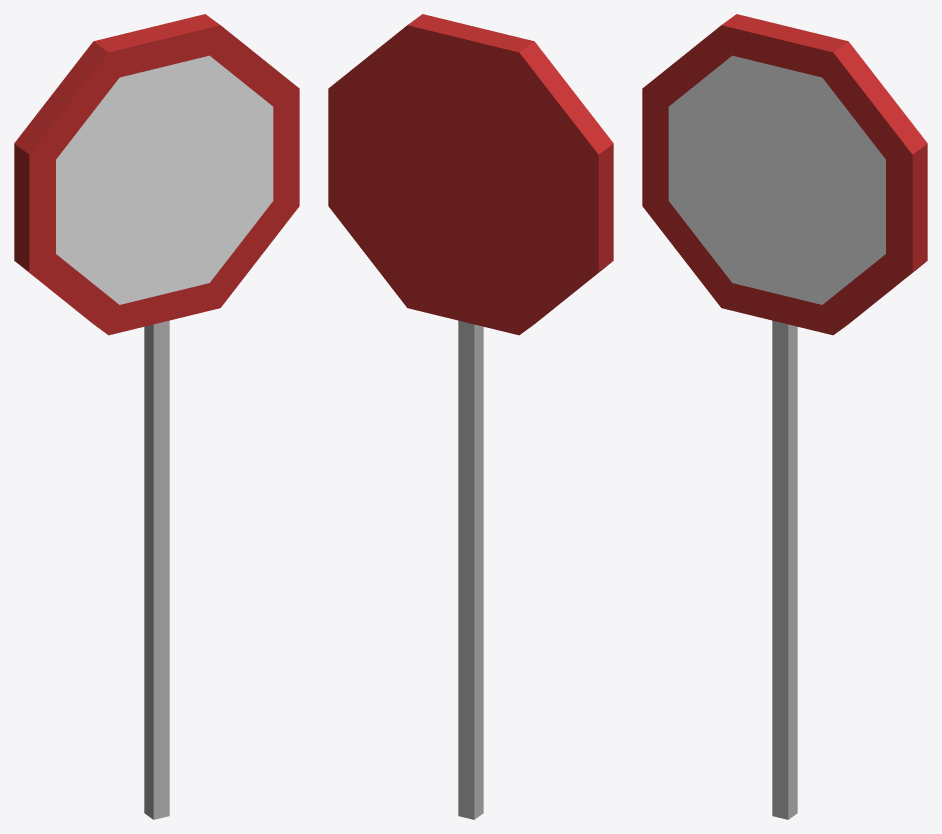
The model's file is Road_Sign_2.fbx.
The picture shows the model from 3 angles, left to right: view 1: azimuth 30°, elevation 25°; view 2: azimuth 150°, elevation 25°; view 3: azimuth 330°, elevation 25°; orthographic projection.
Visible parts, largest first — view 1: Road_Sign_2; view 2: Road_Sign_2; view 3: Road_Sign_2.
Part boxes in pixels (<box>): Road_Sign_2: <box>14,14,299,819</box>; Road_Sign_2: <box>328,14,613,819</box>; Road_Sign_2: <box>642,14,927,819</box>.
Bounding box in the file's own units: 1.19 × 3.29 × 0.1168.
1 material, 1 textured.
